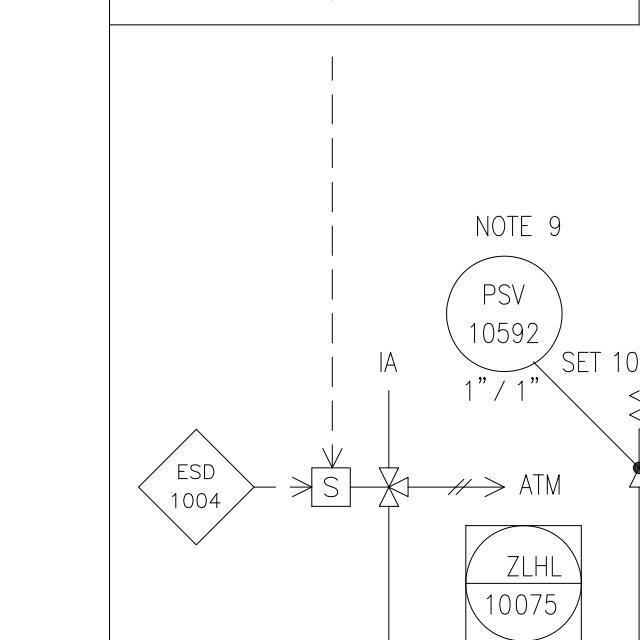3W: (370, 461, 411, 515)
SV: (303, 461, 401, 509)
